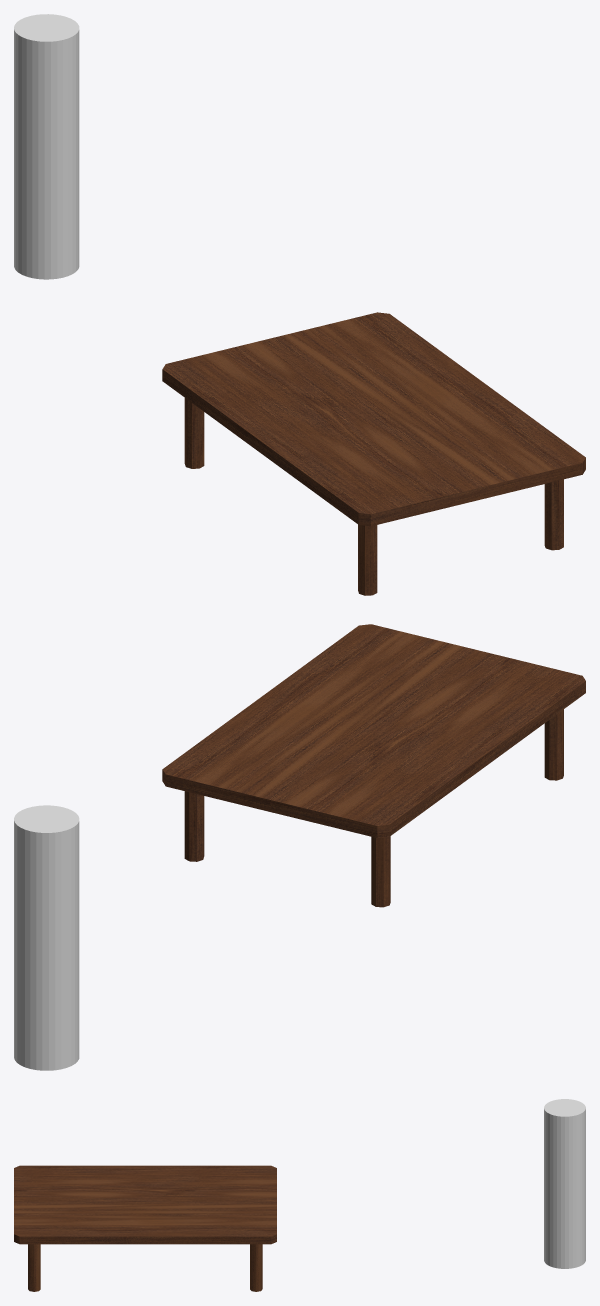
Rendered from table.glb.
3 views of the same model, one above another, from view 1: azimuth 30°, elevation 25°; view 2: azimuth 150°, elevation 25°; view 3: azimuth 270°, elevation 25° (orthographic). The views are drawn at different scales.
Visible parts, largest first — view 1: Table-col, Ref-noimp; view 2: Table-col, Ref-noimp; view 3: Table-col, Ref-noimp.
Part boxes in pixels (x1,y1,x2,y2): Table-col: (162,312,585,595); Ref-noimp: (14,14,79,279); Table-col: (162,624,585,907); Ref-noimp: (14,805,79,1070); Table-col: (14,1165,276,1291); Ref-noimp: (544,1099,585,1268).
Bounding box in the file's own units: 2 × 2 × 6.81.
Materials: 1 (1 with a texture image).
